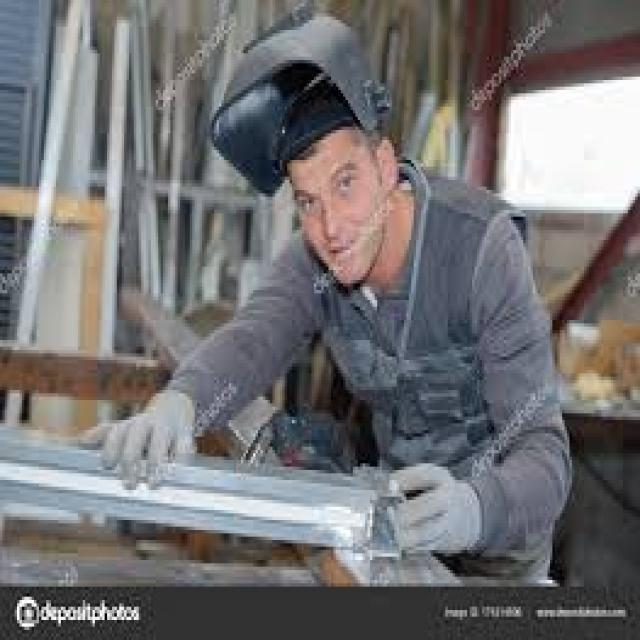helmet_lifted: (209, 5, 400, 285)
without_helmet: (290, 126, 403, 282)
